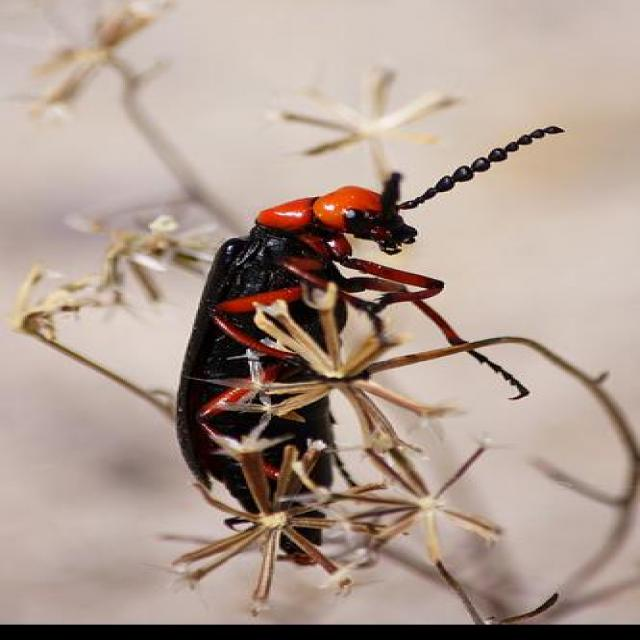BlisterBeetle-Adult-: (168, 117, 569, 568)
